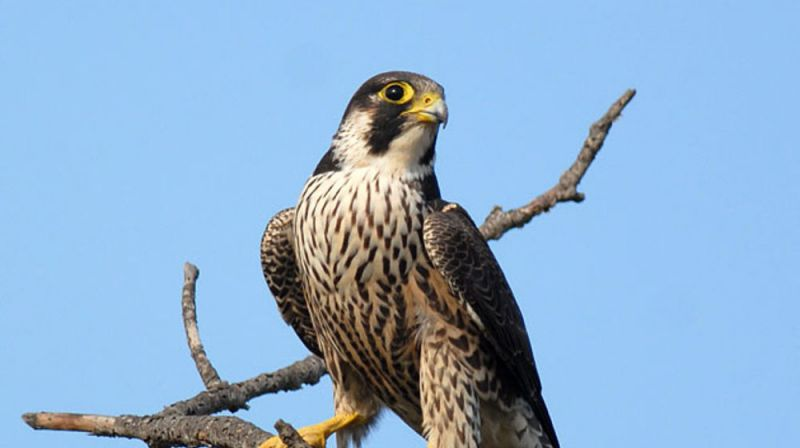Pengoyak Daging: (422, 89, 456, 134)
